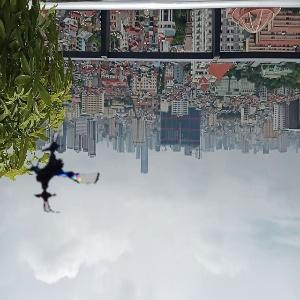drone: (19, 127, 109, 217)
